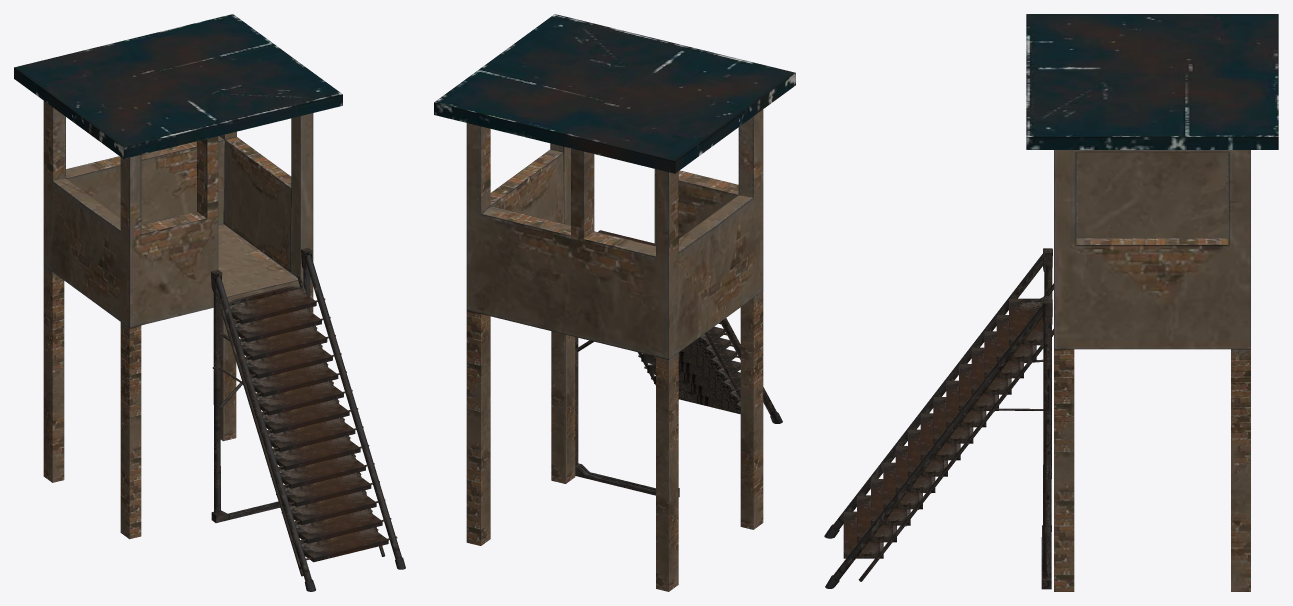
Rendered from wtower.glb.
The picture shows the model from 3 angles, left to right: view 1: azimuth 30°, elevation 25°; view 2: azimuth 150°, elevation 25°; view 3: azimuth 270°, elevation 25°; orthographic projection. The views are drawn at different scales.
Visible parts, largest first — view 1: towerWatch3_lo_tower_0, stairs_lo2_metalPlank_0; view 2: towerWatch3_lo_tower_0, stairs_lo2_metalPlank_0; view 3: towerWatch3_lo_tower_0, stairs_lo2_metalPlank_0.
Part boxes in pixels (x1,y1,x2,y2): towerWatch3_lo_tower_0: (14, 14, 342, 539); stairs_lo2_metalPlank_0: (211, 248, 405, 591); towerWatch3_lo_tower_0: (434, 14, 795, 591); stairs_lo2_metalPlank_0: (575, 230, 782, 496); towerWatch3_lo_tower_0: (1026, 14, 1278, 591); stairs_lo2_metalPlank_0: (824, 248, 1053, 589).
Bounding box in the file's own units: 3.21 × 5.67 × 5.03.
Materials: 2 (2 with a texture image).
